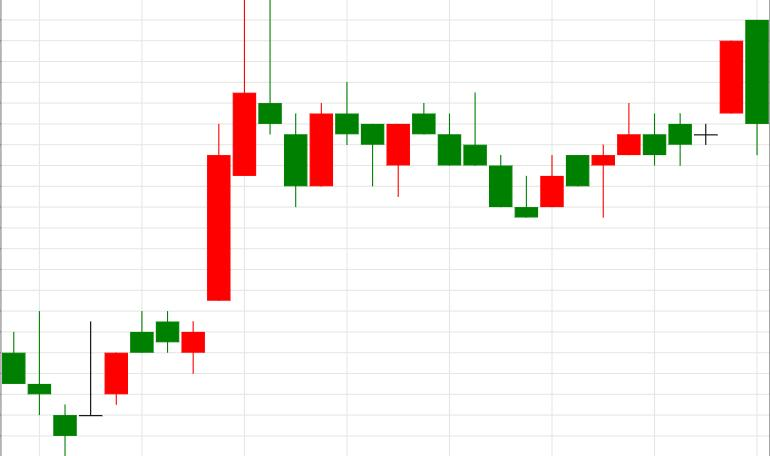bearish_engulfing_fall: (514, 19, 770, 218)
morning_star_rise: (412, 93, 564, 217)
shooting_star_fall: (182, 0, 282, 374)
